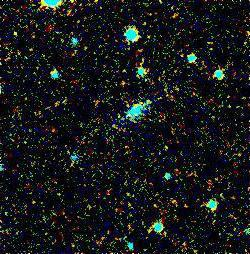star: (0, 20, 29, 50)
